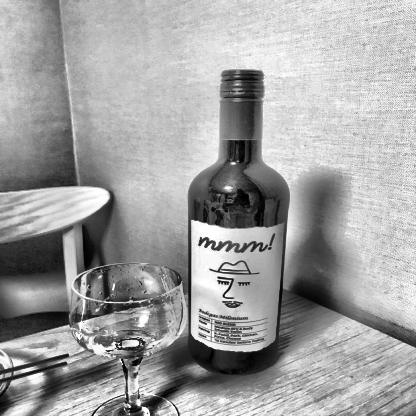umm: (191, 218, 283, 356)
